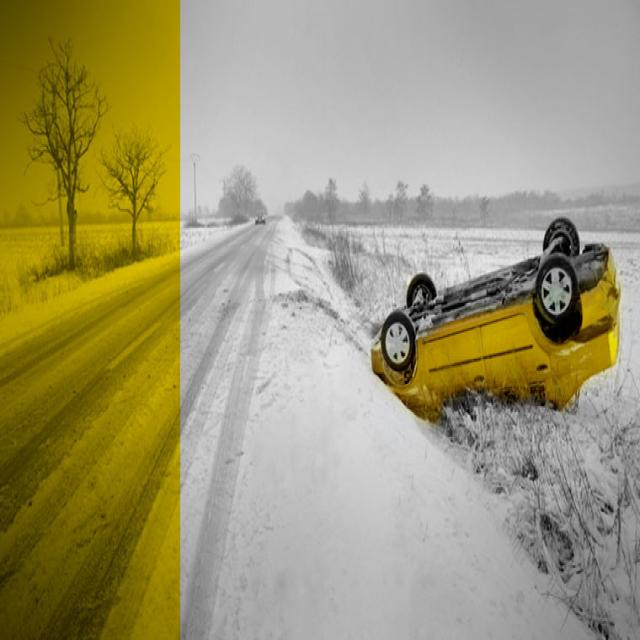Accident: (364, 210, 622, 428)
